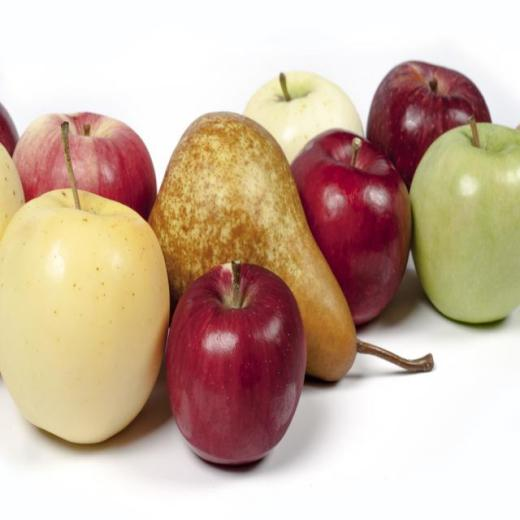Apple: (0, 116, 171, 449), (166, 258, 308, 468), (289, 127, 413, 323), (410, 112, 520, 323), (10, 105, 157, 220), (366, 60, 492, 186), (244, 68, 365, 166), (0, 141, 26, 244), (0, 99, 20, 155)
